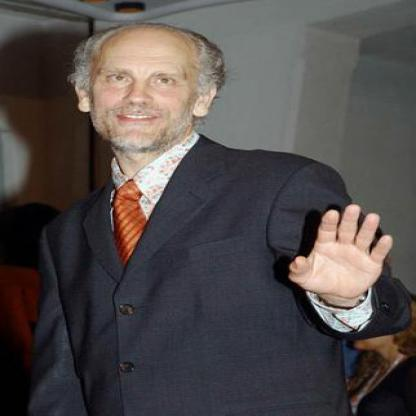face: (88, 25, 201, 154)
